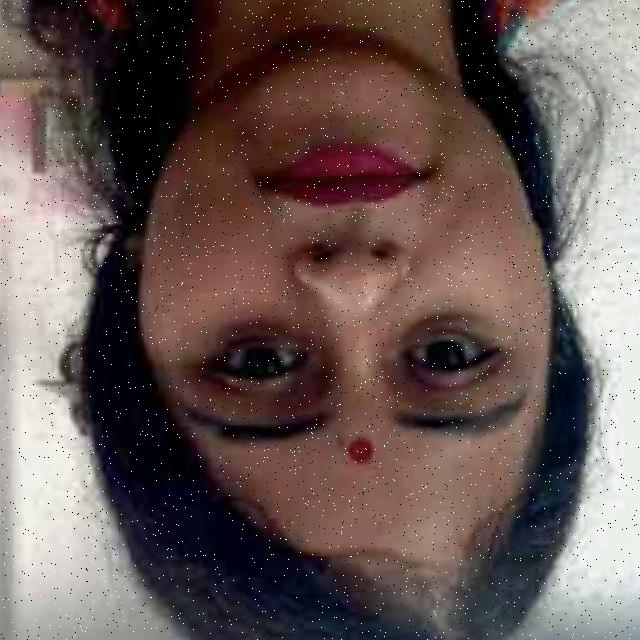puffy_eyes: (214, 323, 315, 360), (389, 316, 495, 351)
